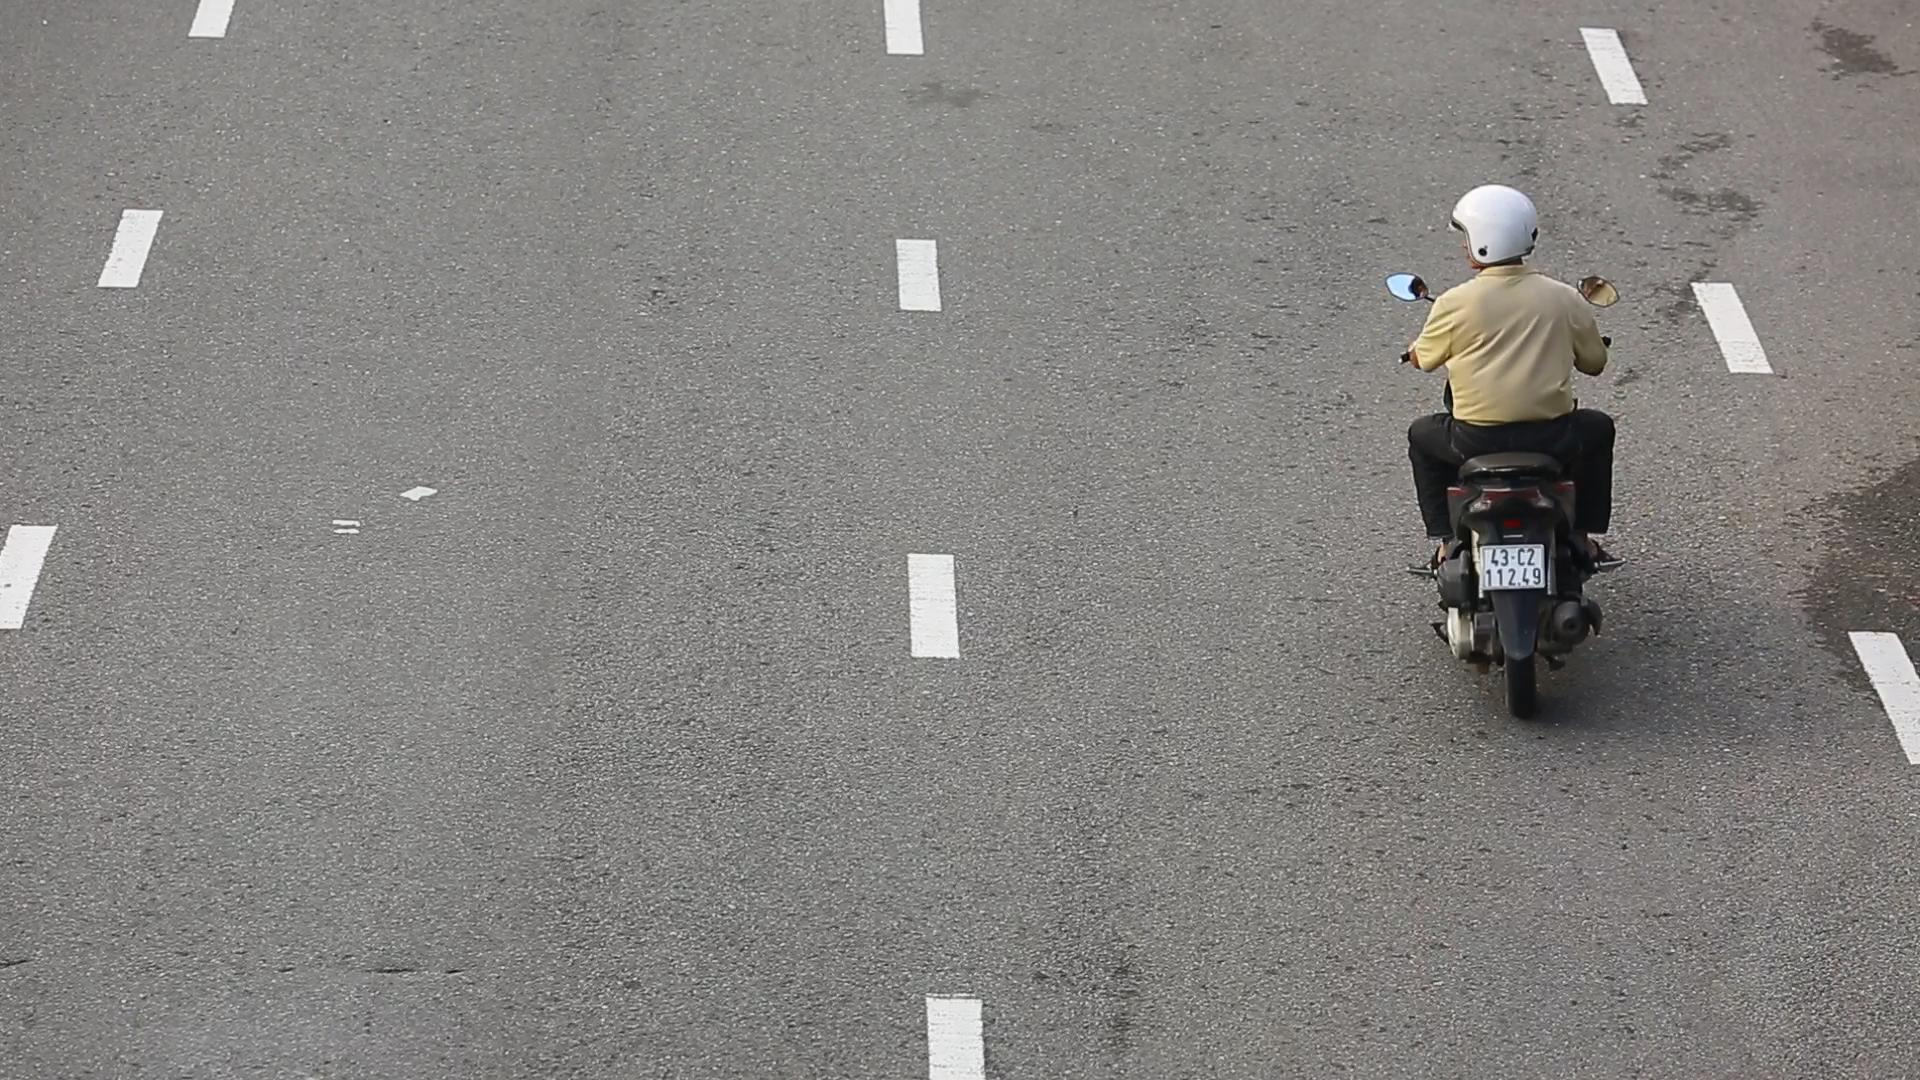motobike: (1391, 174, 1625, 724)
